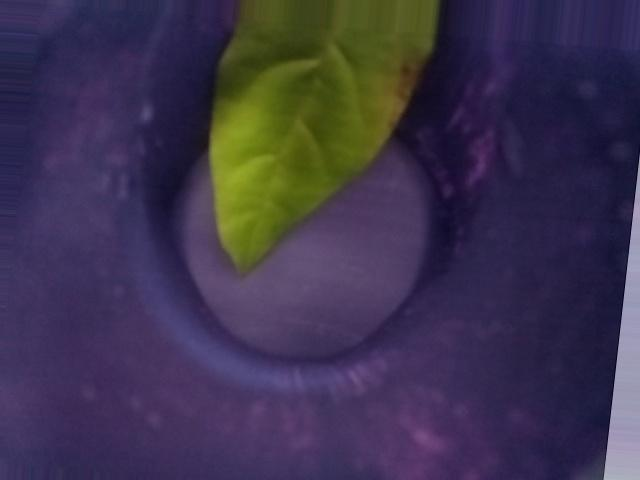feuille: (185, 14, 443, 295)
